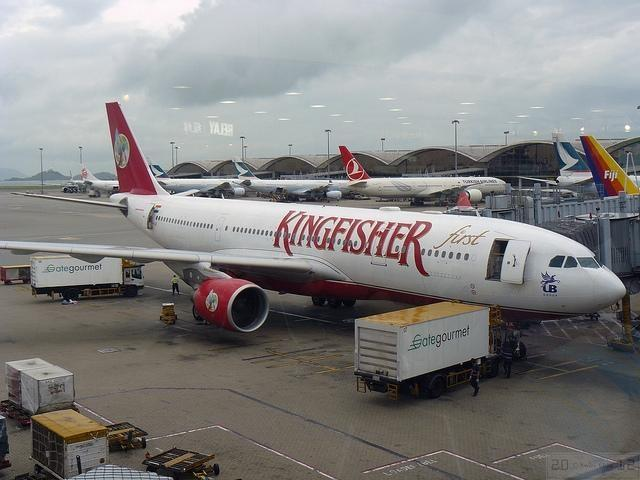truck: (354, 301, 504, 401), (33, 410, 171, 480), (30, 254, 146, 300)
